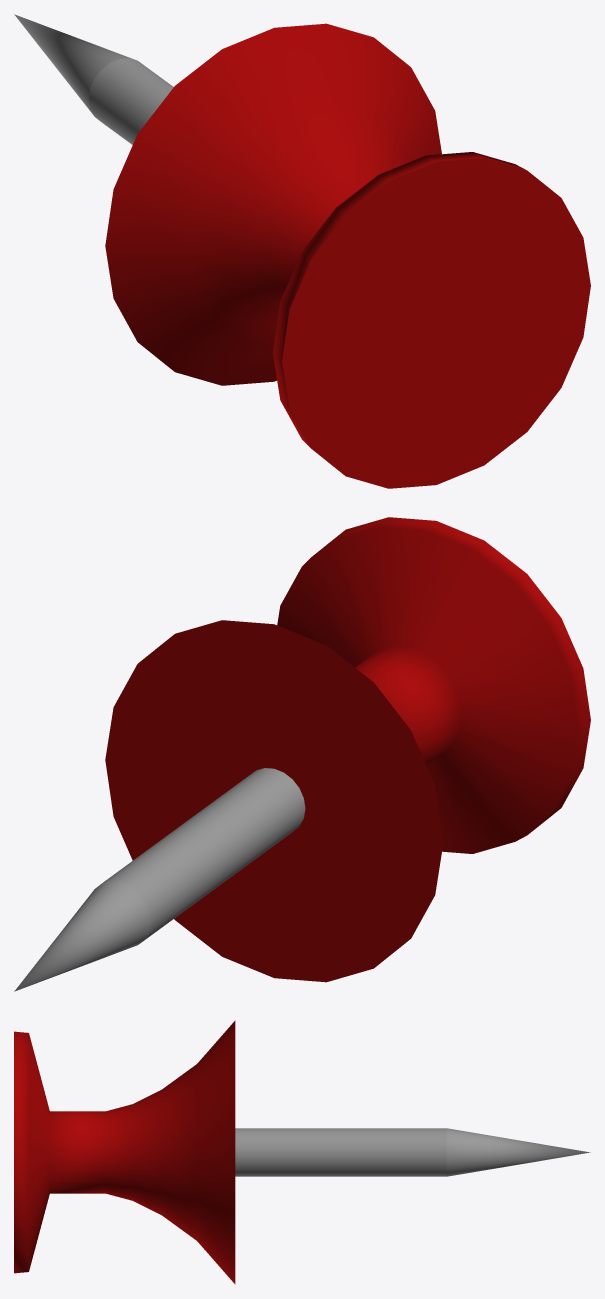
The model's file is PushPin.fbx.
The picture shows the model from 3 angles, top to bottom: view 1: azimuth 30°, elevation 25°; view 2: azimuth 150°, elevation 25°; view 3: azimuth 270°, elevation 25°; orthographic projection. The views are drawn at different scales.
Parts seen in each view (by area): view 1: PushPin; view 2: PushPin; view 3: PushPin.
Boxes of the visible parts, x1,y1,x2,y2 form: PushPin: (14,14,590,488); PushPin: (14,517,590,991); PushPin: (14,1020,590,1284).
Bounding box in the file's own units: 6.45 × 6.45 × 13.96.
